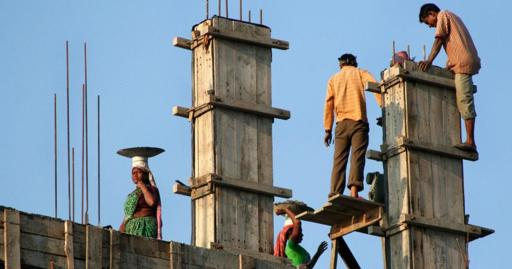unsafe person: (415, 1, 489, 150), (324, 51, 373, 196), (114, 147, 166, 234), (274, 197, 327, 269)
